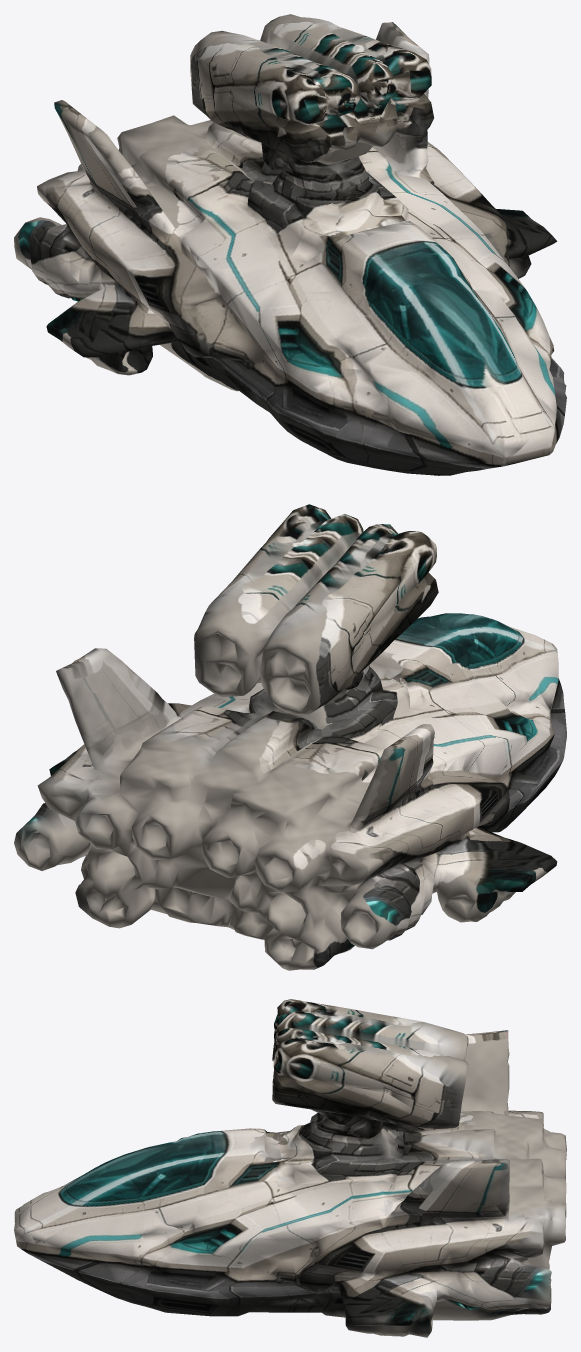
File: simoom_lod1.glb
3 views of the same model, one above another, from view 1: azimuth 30°, elevation 25°; view 2: azimuth 150°, elevation 25°; view 3: azimuth 270°, elevation 25° (orthographic). The views are drawn at different scales.
Visible parts, largest first — view 1: geometry_0; view 2: geometry_0; view 3: geometry_0.
Boxes of the visible parts, <box> form: geometry_0: <box>14,14,566,475</box>; geometry_0: <box>14,504,566,970</box>; geometry_0: <box>14,999,566,1337</box>.
Bounding box in the file's own units: 1.6 × 1.05 × 2.
1 material, 1 textured.
